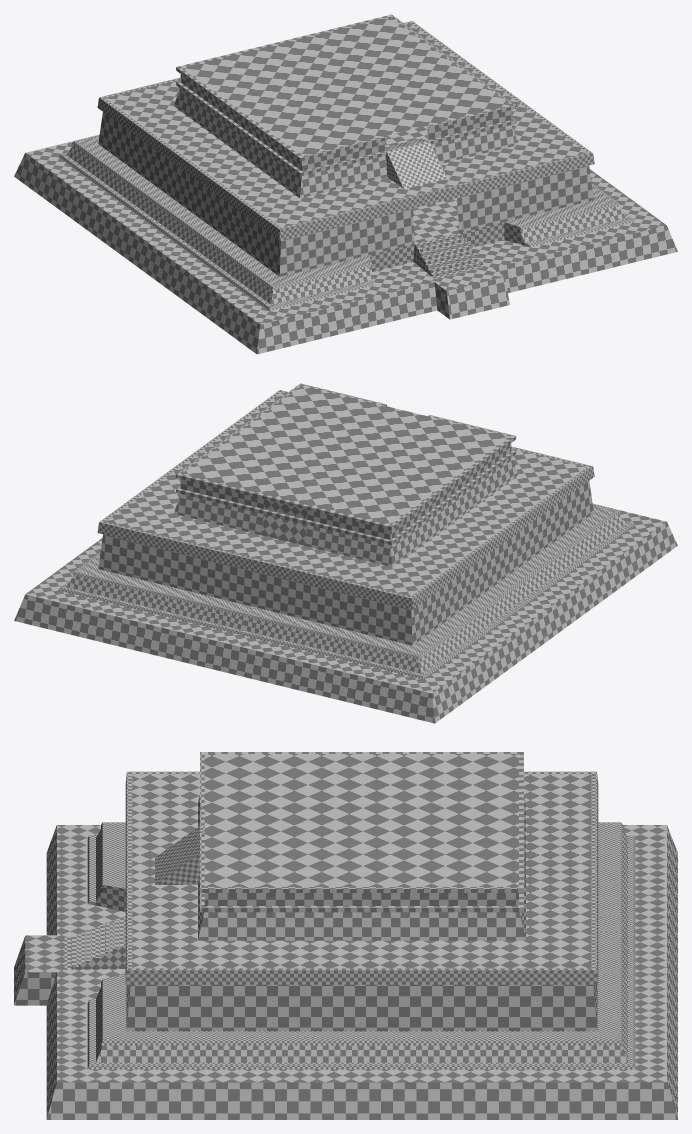
File: weeniepalace.fbx
3 renders of one model, top to bottom at view 1: azimuth 30°, elevation 25°; view 2: azimuth 150°, elevation 25°; view 3: azimuth 270°, elevation 25°, orthographic. The views are drawn at different scales.
Parts seen in each view (by area): view 1: Cube; view 2: Cube; view 3: Cube.
Boxes of the visible parts, x1,y1,x2,y2 form: Cube: (14,14,677,354); Cube: (14,383,677,723); Cube: (14,752,677,1119).
Size of the model in its own units: 6065 by 1760 by 6378.
